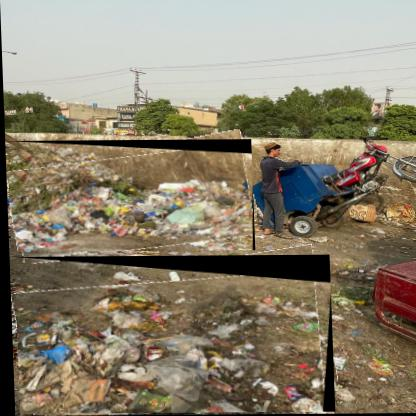Garbage: (13, 256, 334, 416), (7, 141, 255, 254)
